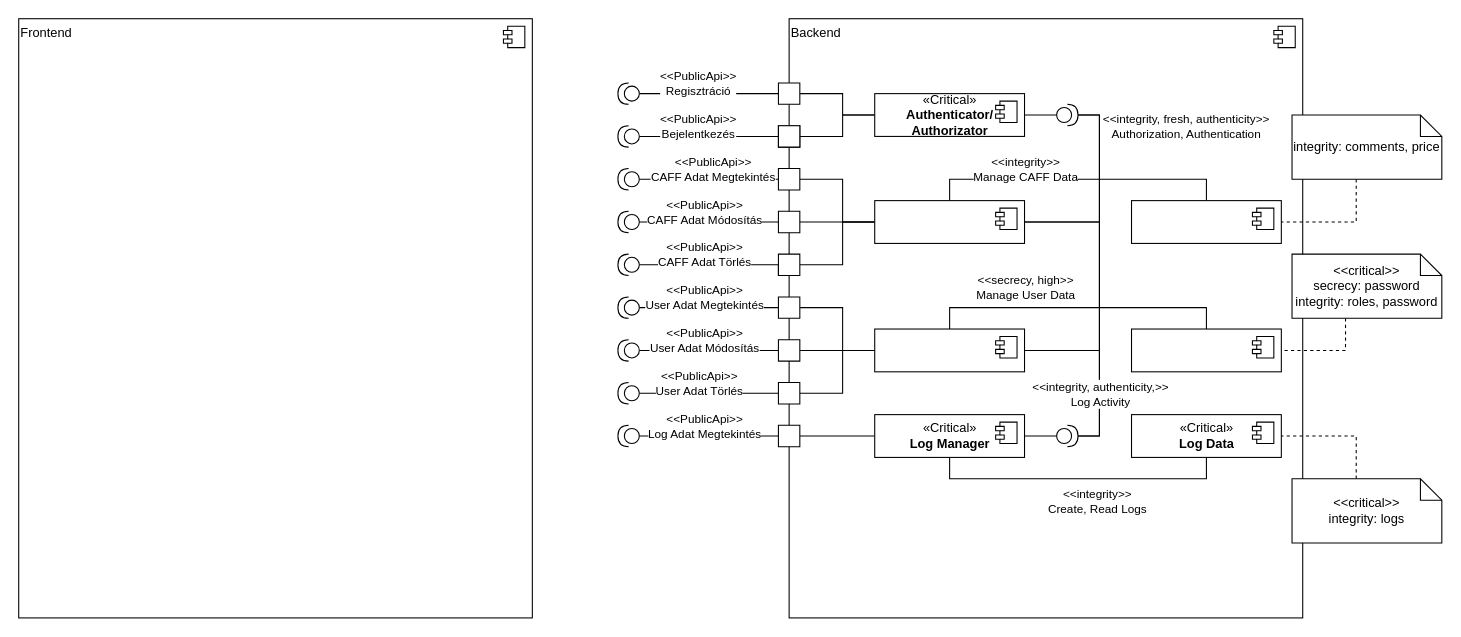
Image size: 1461x637. Some labels were removed from this diagram. Each missing label, with the centre of its shape:
"CAFF Data" goes at (1205,221).
"CAFF Manager" goes at (949,221).
"«Critical» User Data" goes at (1205,350).
"«Critical» User Manager" goes at (949,350).
